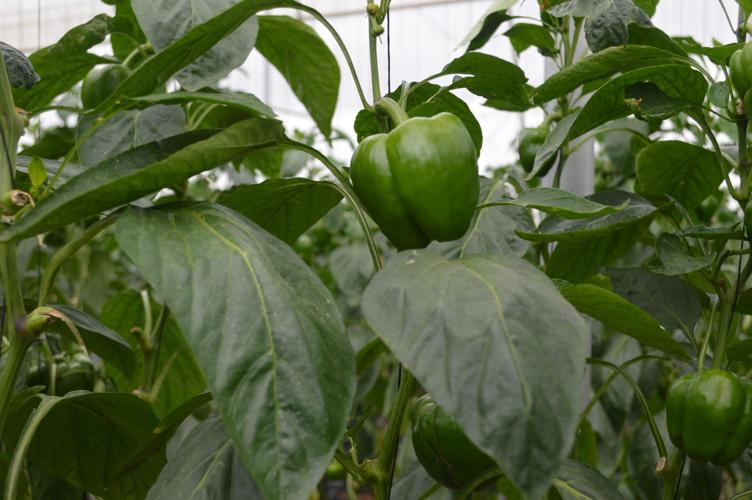BellPepper: (339, 108, 501, 263), (404, 388, 512, 497), (664, 348, 752, 468), (68, 63, 136, 109)
